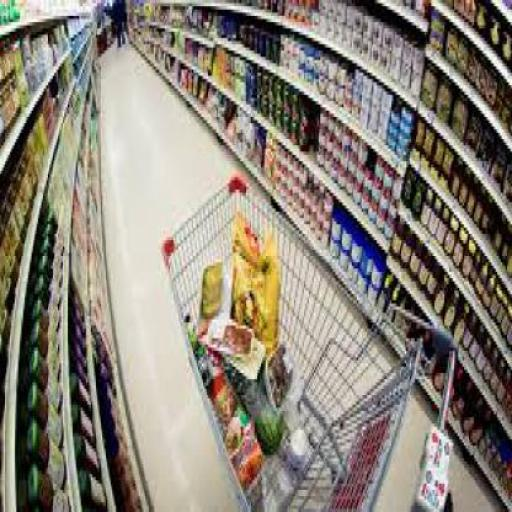shopping_cart: (161, 173, 460, 512)
